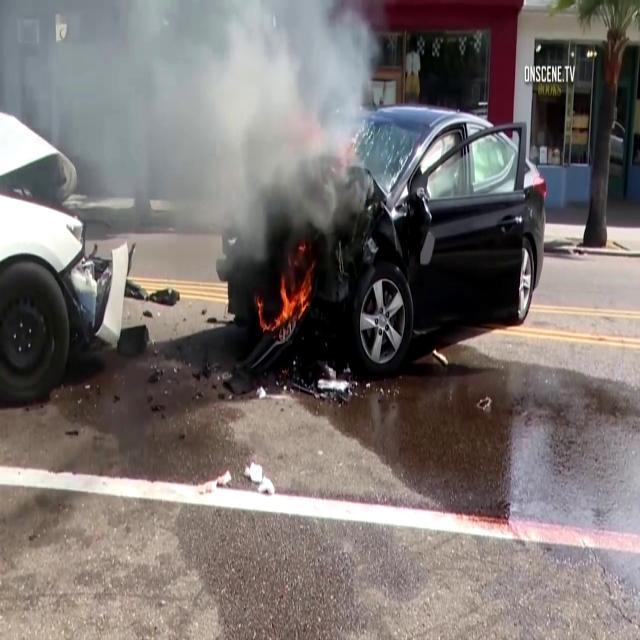Fire: (254, 272, 306, 342)
Smoke: (0, 0, 371, 217)
